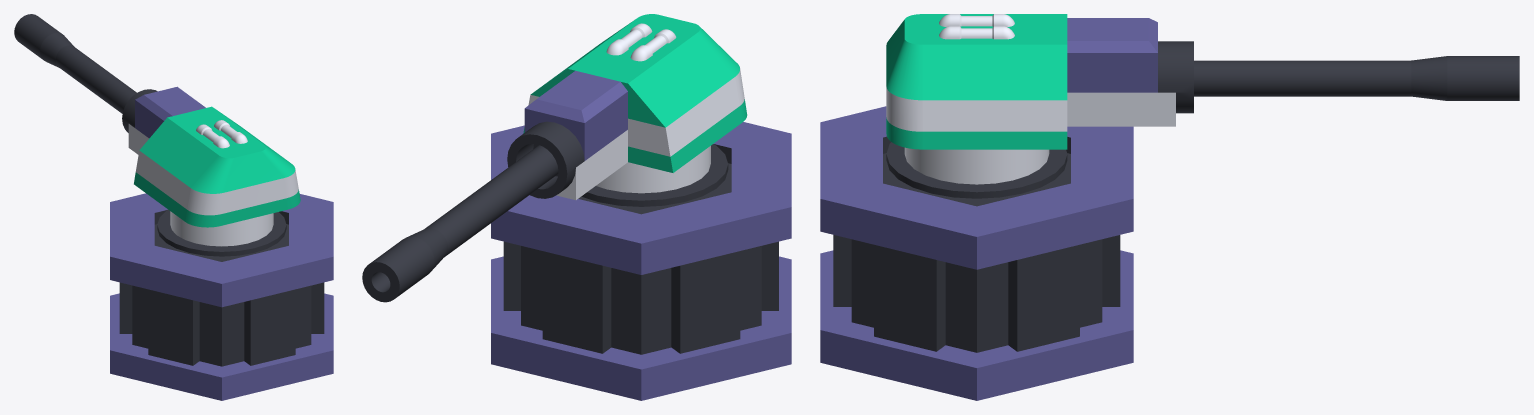
File: Tower_Cannon_1.fbx
The picture shows the model from 3 angles, left to right: view 1: azimuth 30°, elevation 25°; view 2: azimuth 150°, elevation 25°; view 3: azimuth 270°, elevation 25°; orthographic projection. The views are drawn at different scales.
Visible parts, largest first — view 1: clipBarrel, hull_halfBack, pipe_small, attachment_barrelEnd, blaster_barrelLarge, detail_pipesSmall; view 2: clipBarrel, hull_halfBack, blaster_barrelLarge, attachment_barrelEnd, pipe_small, detail_pipesSmall; view 3: clipBarrel, hull_halfBack, attachment_barrelEnd, blaster_barrelLarge, pipe_small, detail_pipesSmall.
Part boxes in pixels (x1,y1,x2,y2): clipBarrel: (110, 193, 333, 400); hull_halfBack: (134, 106, 300, 227); pipe_small: (157, 210, 286, 256); attachment_barrelEnd: (14, 14, 136, 113); blaster_barrelLarge: (122, 86, 205, 154); detail_pipesSmall: (196, 120, 247, 148); clipBarrel: (491, 122, 791, 400); hull_halfBack: (523, 14, 747, 172); blaster_barrelLarge: (507, 70, 627, 200); attachment_barrelEnd: (362, 145, 558, 302); pipe_small: (581, 144, 728, 206); detail_pipesSmall: (606, 23, 676, 61); clipBarrel: (820, 106, 1133, 400); hull_halfBack: (886, 14, 1067, 149); attachment_barrelEnd: (1194, 56, 1519, 100); blaster_barrelLarge: (1067, 18, 1193, 126); pipe_small: (886, 142, 1067, 198); detail_pipesSmall: (939, 14, 1014, 39).
Size of the model in its own units: 10 by 9.26 by 19.33.
